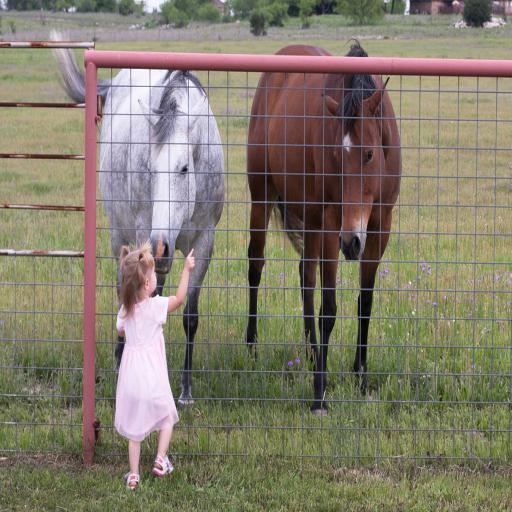horse: (44, 26, 224, 410), (246, 36, 402, 418)
